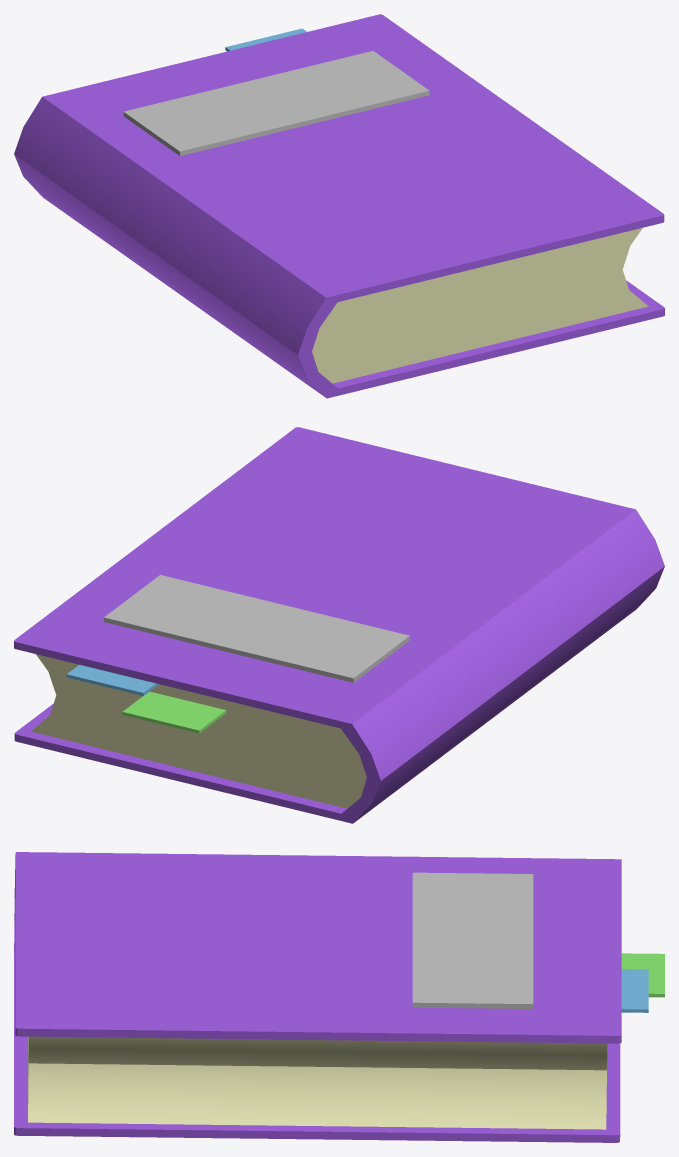
File: lowpolyBook_01.fbx
The picture shows the model from 3 angles, top to bottom: view 1: azimuth 30°, elevation 25°; view 2: azimuth 150°, elevation 25°; view 3: azimuth 270°, elevation 25°; orthographic projection. The views are drawn at different scales.
Parts seen in each view (by area): view 1: cover.003; view 2: cover.003; view 3: cover.003.
Boxes of the visible parts, <box> form: cover.003: <box>14,14,664,398</box>; cover.003: <box>14,427,664,823</box>; cover.003: <box>14,852,664,1142</box>.
Bounding box in the file's own units: 22.44 × 6.25 × 32.22.
